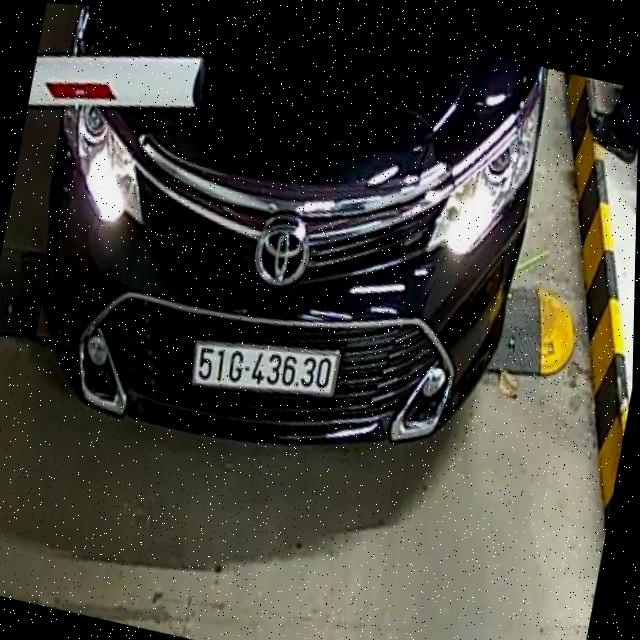car: (0, 0, 565, 507)
plate: (186, 325, 341, 414)
